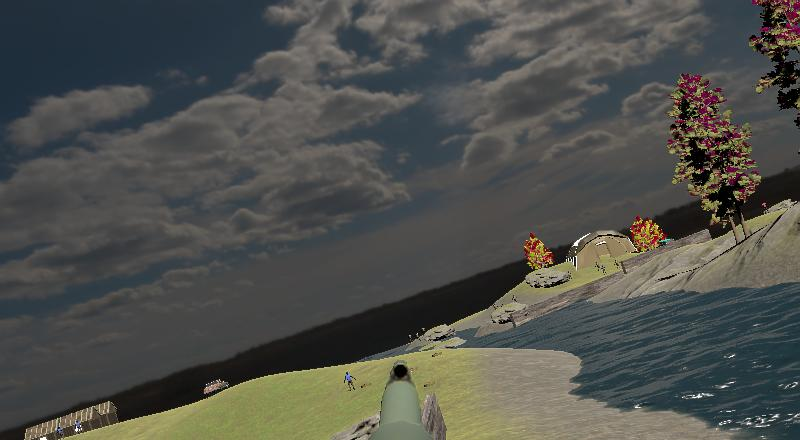Human: (343, 370, 357, 392)
